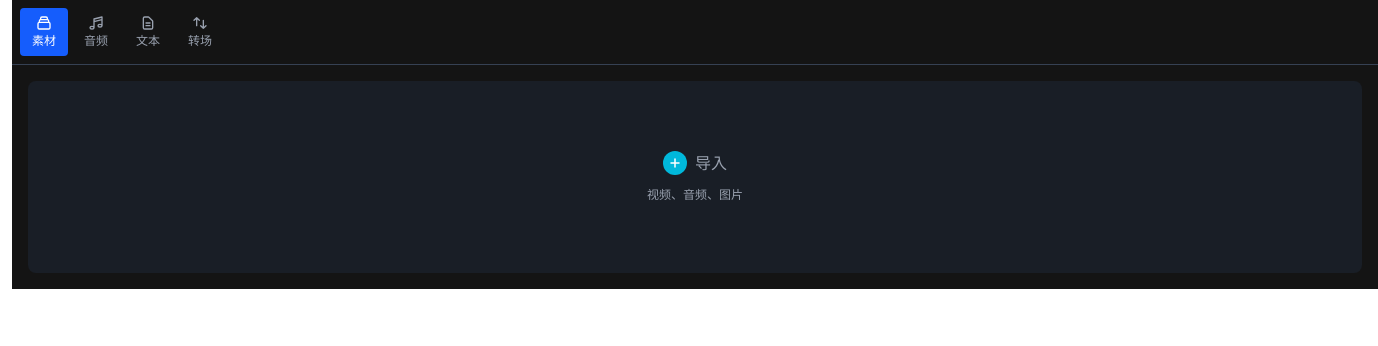
Test: MediaLibrary › 6.1.6 测试面包屑导航 › should show breadcrumb when inside a folder
Create folder
Right-click the element showing "导入 视频、音频、图片": (695, 177) [28,81,1362,273]
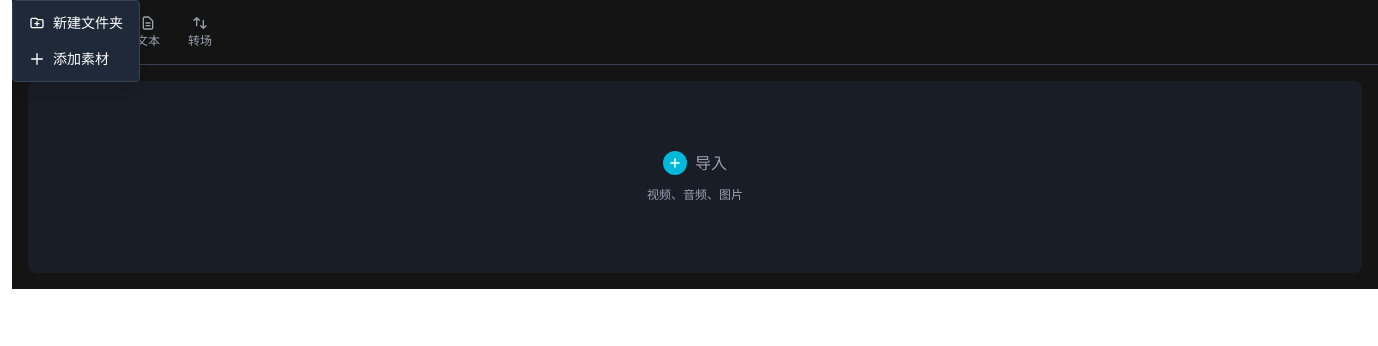
Click the button "新建文件夹": (76, 23) [13,5,139,41]
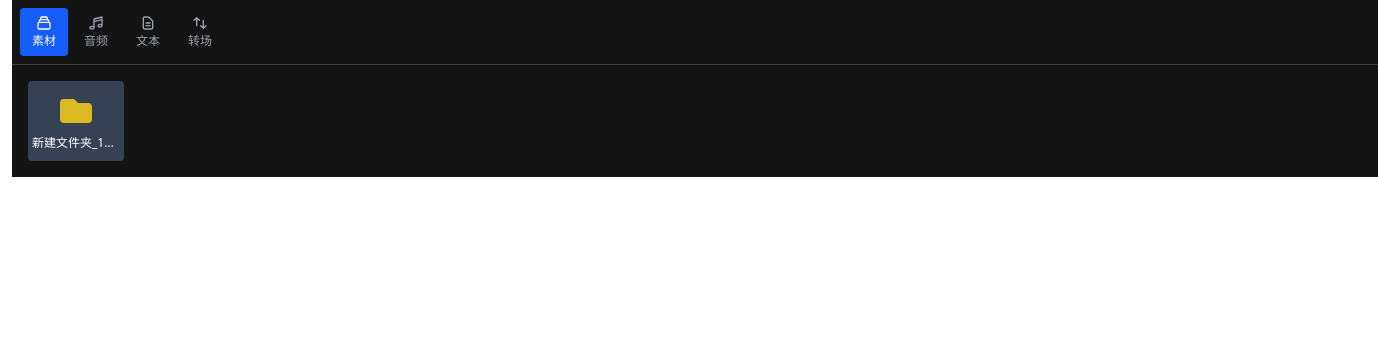
Enter folder
Double-click the text "新建文件夹_1772621037888": (76, 121) [28,81,124,161]
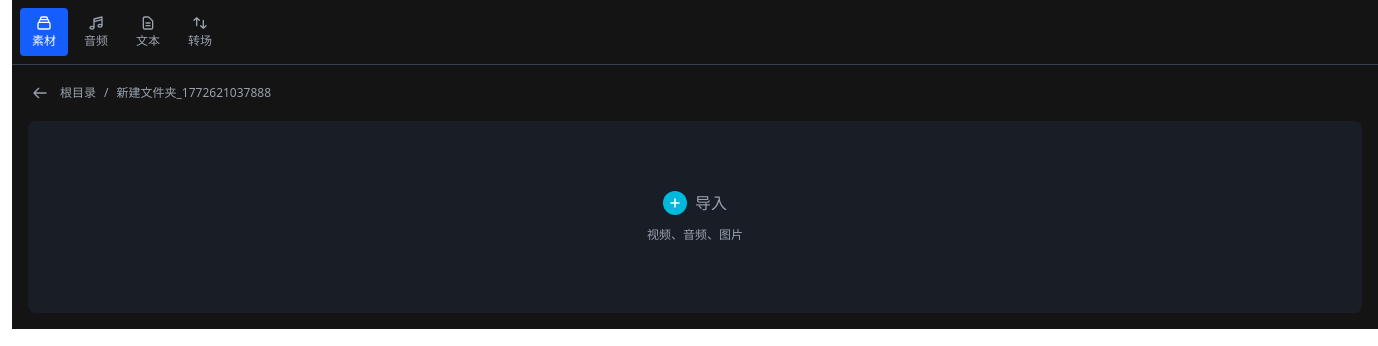
Expected: the button "根目录" is shown, [60,85,96,101]
